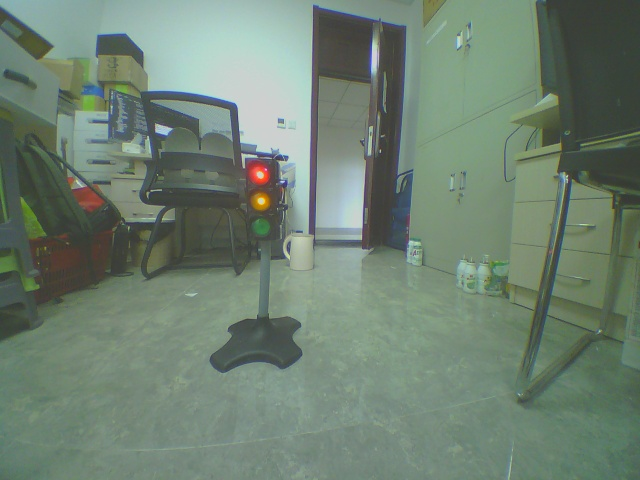Red_Yellow: (242, 152, 281, 252)
